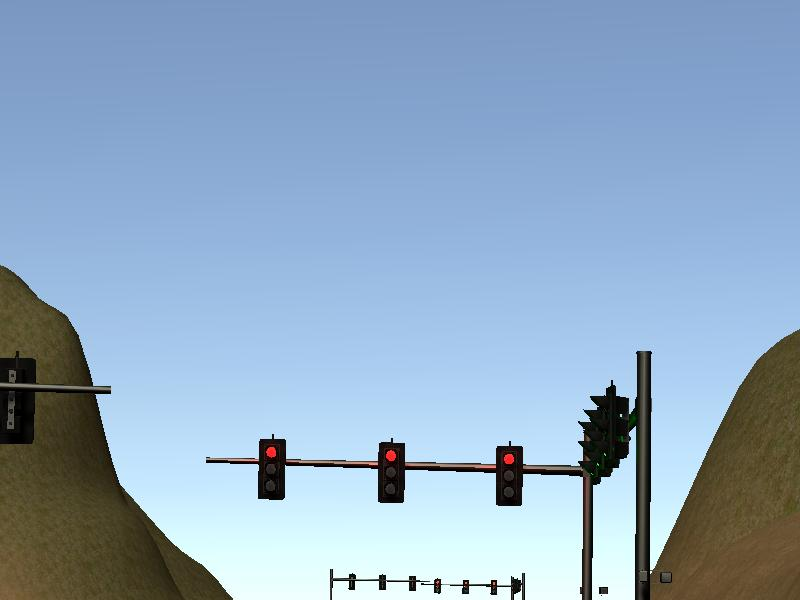Red: (259, 437, 285, 501), (378, 441, 405, 500), (496, 447, 523, 503)
